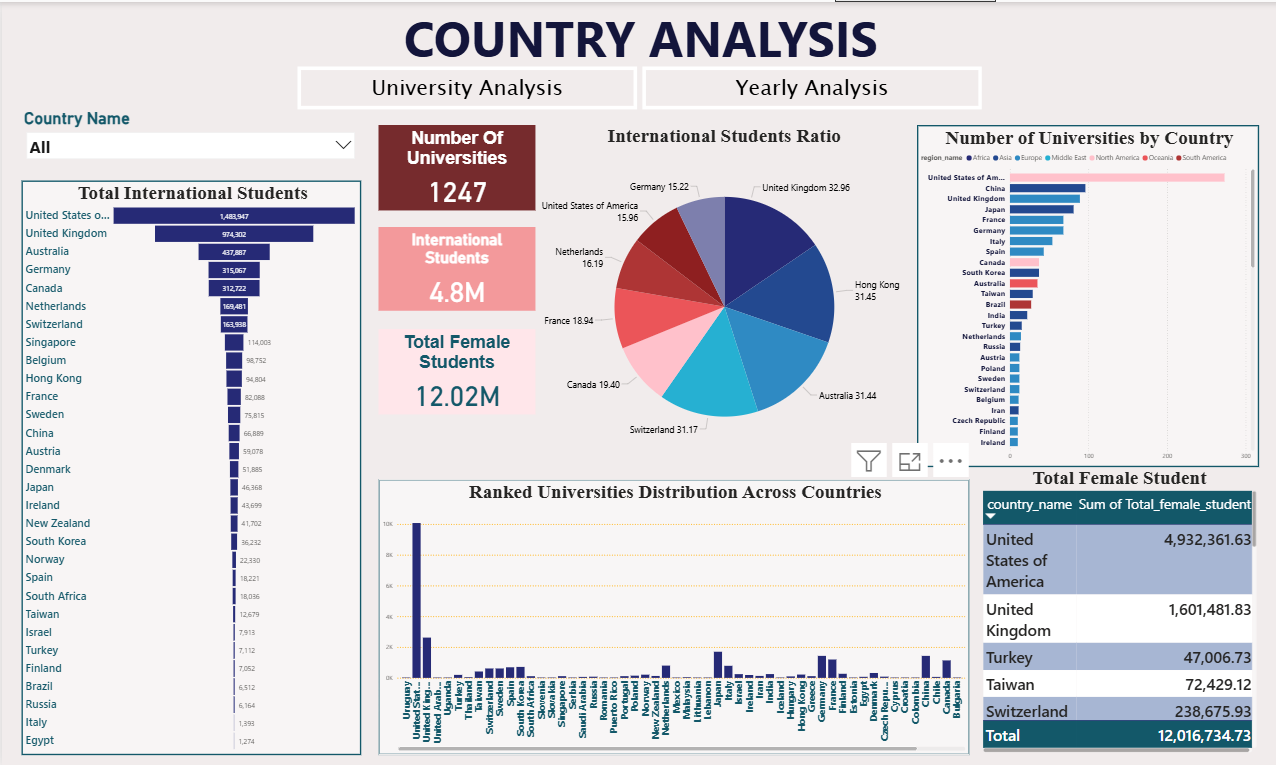

This screenshot's page, from the dashboard's own definition file:
{"tool":"powerbi","page":{"name":"Country Analysis","canvas":[2500,1500],"ordinal":0},"visuals":[{"type":"barChart","title":"Number of Universities by Country","fields":{"Category":["country.country_name"],"Y":["CountNonNull(university.university_name)"],"Series":["region.region_name"]},"box":[1791.8,240.9,669.7,669.7],"z":0},{"type":"tableEx","title":"Total Female Student","fields":{"Values":["country.country_name","Sum(university_year.Total_female_student)"]},"box":[1915.2,910.6,546.4,564],"z":1000},{"type":"pieChart","title":"International Students Ratio","fields":{"Category":["country.country_name"],"Y":["Avg(university_year.pct_international_students)"]},"box":[1036.9,240.9,754.9,669.7],"z":2000},{"type":"clusteredColumnChart","title":"Ranked Universities Distribution Across Countries","fields":{"Category":["country.country_name"],"Y":["CountNonNull(university_ranking_year.ranking_criteria_id)"]},"box":[737.3,934.1,1157.3,540.5],"z":3000},{"type":"funnel","title":"Total International Students","fields":{"Category":["country.country_name"],"Y":["Sum(university_year.Total_Int_Student)"]},"box":[38.8,349.1,665.5,1125],"z":4000},{"type":"textbox","box":[774.5,0,951.1,165.7],"z":5000},{"type":"slicer","title":"Country Name","fields":{"Values":["country.country_name"]},"box":[38.8,208.9,662.5,116.4],"z":6000},{"type":"pageNavigator","box":[579.3,125.3,1341.5,84.7],"z":7000},{"type":"card","title":"Number Of Universities","fields":{"Values":["university_year.Total Universities"]},"box":[737.1,241.7,307.4,167.1],"z":8000,"group":"g1"},{"type":"card","title":"Total Female Students","fields":{"Values":["Sum(university_year.Total_female_student)"]},"box":[737.1,641.6,307.4,167.1],"z":9000,"group":"g1"},{"type":"card","title":"International Students","fields":{"Values":["Sum(university_year.Total_Int_Student)"]},"box":[737.1,441.6,307.4,164.1],"z":10000,"group":"g1"},{"type":"group","id":"g1","title":"Group 1","box":[737.1,241.7,307.4,567],"z":10001}]}

Visuals, with their boxes in screenshot pixels (x1, y1, x2, y2), scaled from the page's 2500x1500 canvas onto the 1276x765 screenshot:
"Number of Universities by Country" barChart: x1=915 y1=123 x2=1256 y2=464
"Total Female Student" tableEx: x1=978 y1=464 x2=1256 y2=752
"International Students Ratio" pieChart: x1=529 y1=123 x2=915 y2=464
"Ranked Universities Distribution Across Countries" clusteredColumnChart: x1=376 y1=476 x2=967 y2=752
"Total International Students" funnel: x1=20 y1=178 x2=359 y2=752
textbox: x1=395 y1=0 x2=881 y2=85
"Country Name" slicer: x1=20 y1=107 x2=358 y2=166
pageNavigator: x1=296 y1=64 x2=980 y2=107
"Number Of Universities" card: x1=376 y1=123 x2=533 y2=208
"Total Female Students" card: x1=376 y1=327 x2=533 y2=412
"International Students" card: x1=376 y1=225 x2=533 y2=309
"Group 1" group: x1=376 y1=123 x2=533 y2=412
